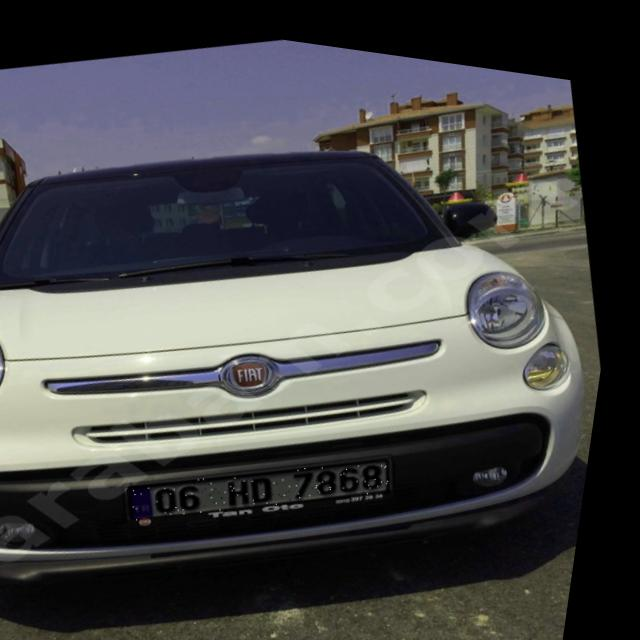license_plate: (137, 418, 406, 542)
